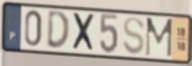0: (23, 8, 43, 49)
5: (98, 12, 119, 57)
D: (45, 10, 71, 52)
M: (144, 16, 175, 59)
S: (121, 16, 146, 57)
X: (71, 12, 97, 54)
